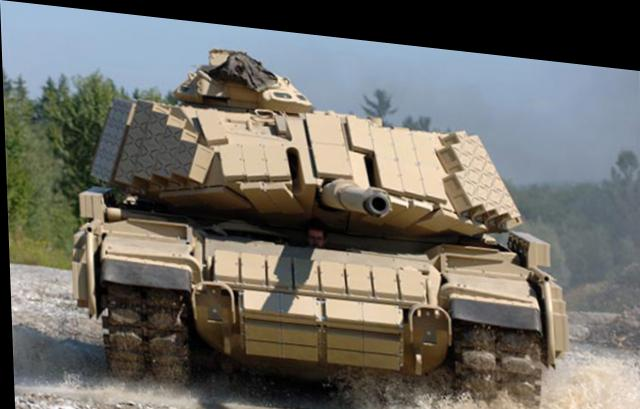tank: (78, 100, 570, 408)
